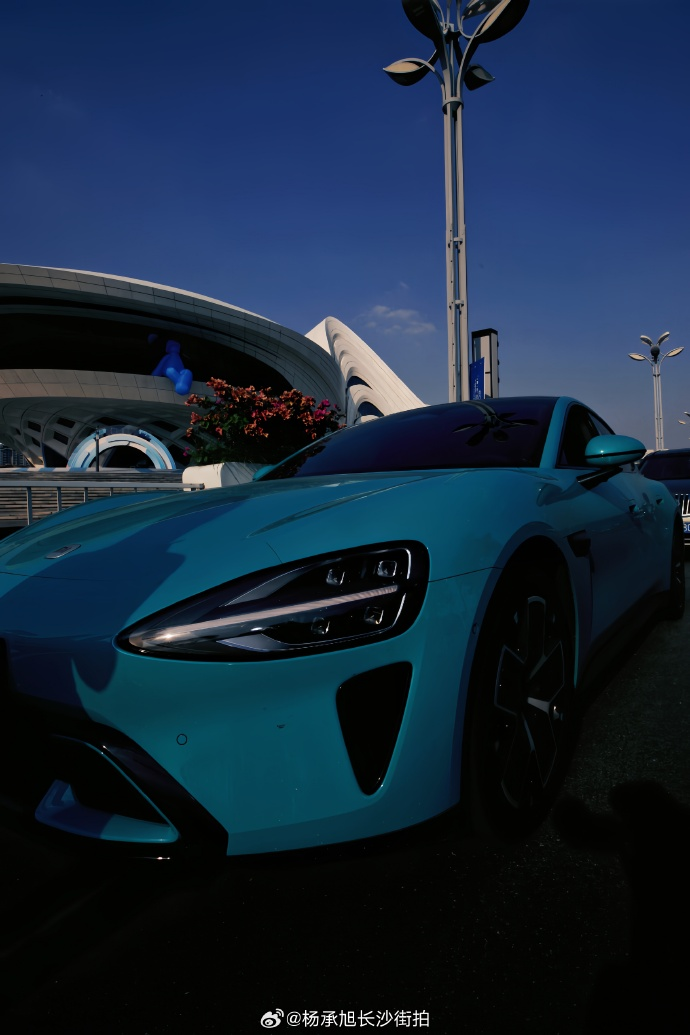su7: (5, 392, 690, 875)
